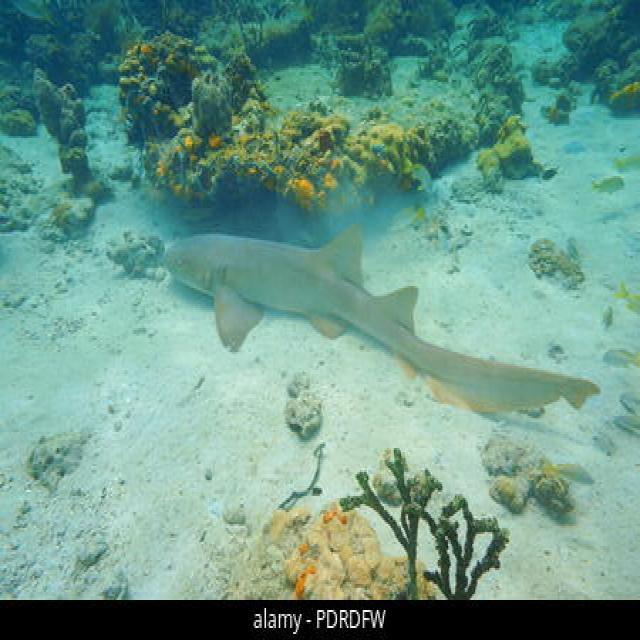Shark: (149, 206, 609, 450)
